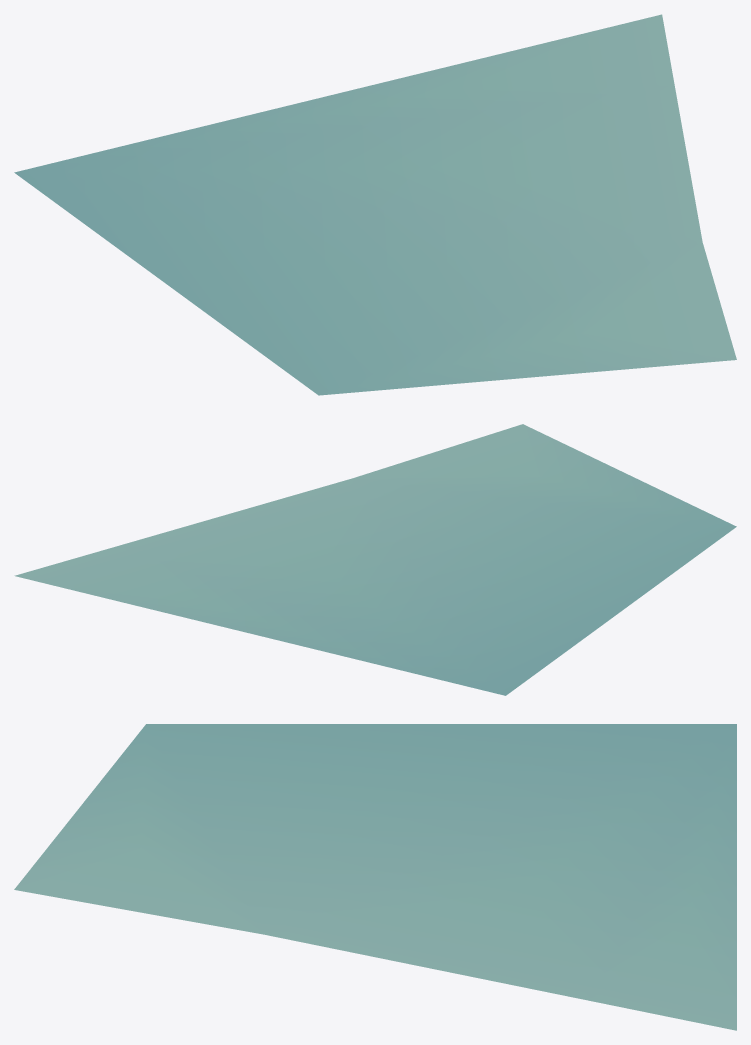
Rendered from water-14-0.glb.
3 renders of one model, top to bottom at view 1: azimuth 30°, elevation 25°; view 2: azimuth 150°, elevation 25°; view 3: azimuth 270°, elevation 25°, orthographic. The views are drawn at different scales.
Size of the model in its own units: 5.33 by 0 by 5.31.
